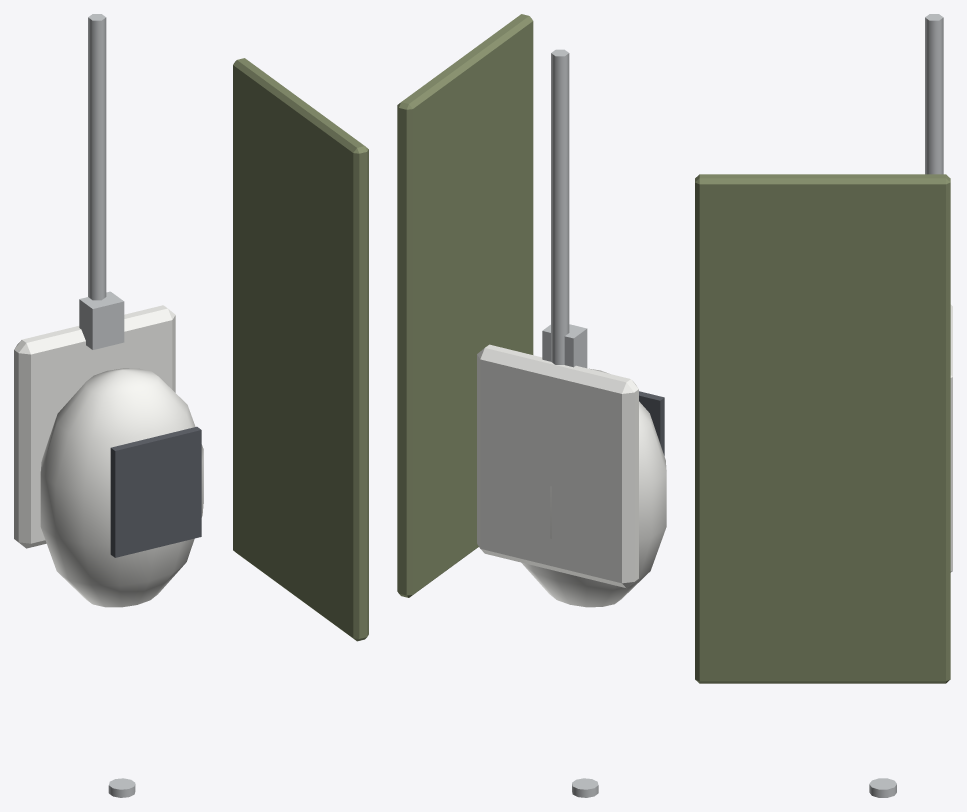
The model's file is urinal.glb.
3 views of the same model, side by side, from view 1: azimuth 30°, elevation 25°; view 2: azimuth 150°, elevation 25°; view 3: azimuth 270°, elevation 25° (orthographic). The views are drawn at different scales.
Visible parts, largest first — view 1: urinal; view 2: urinal; view 3: urinal.
Boxes of the visible parts, x1,y1,x2,y2 form: urinal: (14,14,368,797); urinal: (397,14,666,797); urinal: (695,14,952,797).
Size of the model in its own units: 0.6 by 1.84 by 0.5551.
